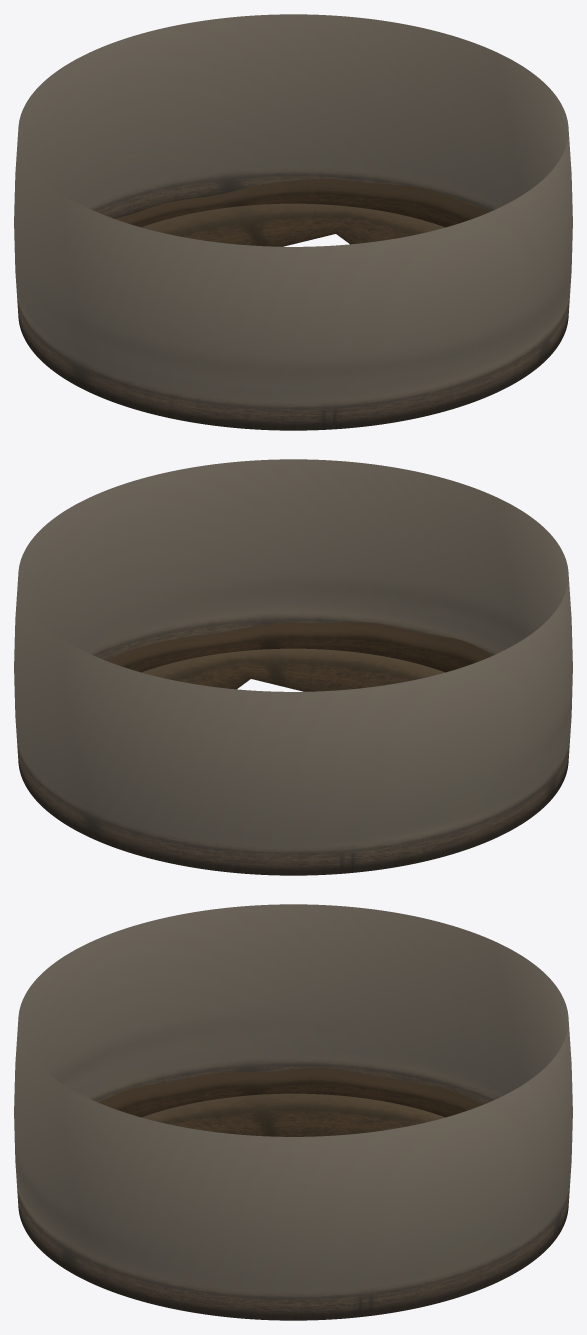
The model's file is dust-flats-panorama.glb.
3 views of the same model, one above another, from view 1: azimuth 30°, elevation 25°; view 2: azimuth 150°, elevation 25°; view 3: azimuth 270°, elevation 25° (orthographic).
Parts seen in each view (by area): view 1: DustFlatsPanorama; view 2: DustFlatsPanorama; view 3: DustFlatsPanorama.
Part boxes in pixels (box(x1,y1,x2,y2)): DustFlatsPanorama: box(14, 14, 572, 430); DustFlatsPanorama: box(14, 459, 572, 875); DustFlatsPanorama: box(14, 904, 572, 1320).
Bounding box in the file's own units: 386 × 140 × 386.
Materials: 1 (1 with a texture image).
